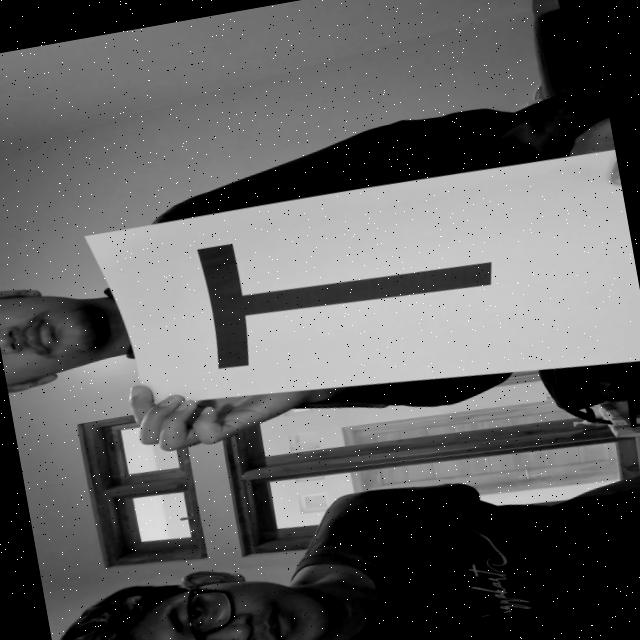t: (180, 189, 520, 383)
